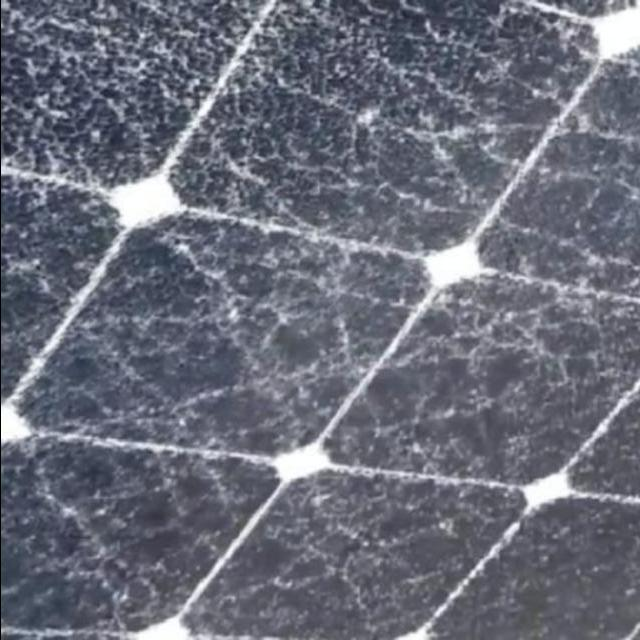cracked: (4, 3, 636, 632)
